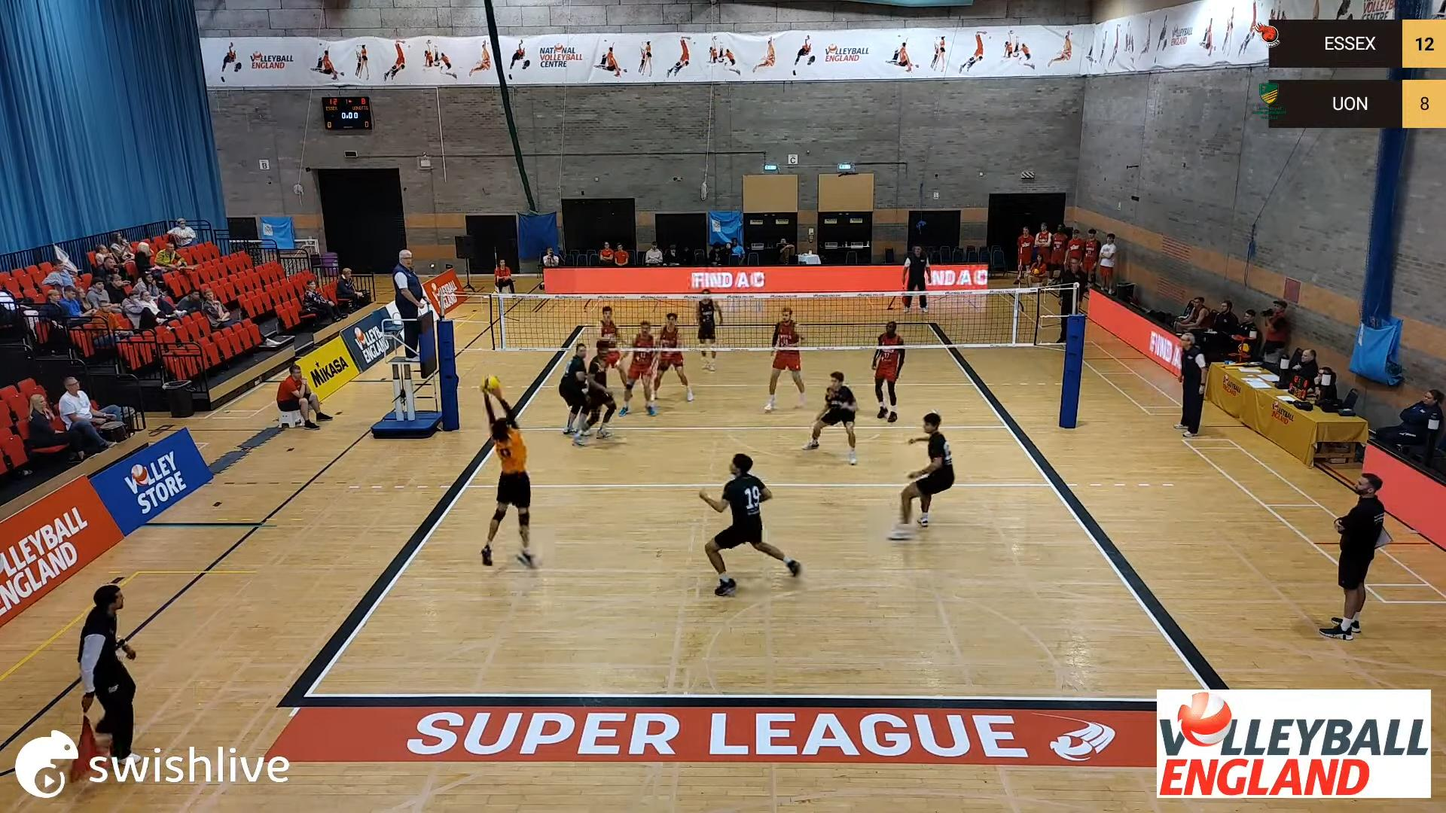Dig: (474, 385, 542, 567)
Player: (699, 454, 801, 595), (889, 413, 953, 540), (803, 371, 856, 464), (573, 340, 616, 446), (764, 309, 805, 411), (653, 312, 694, 401), (619, 320, 656, 416), (872, 322, 905, 422), (558, 342, 588, 434), (697, 288, 720, 370), (599, 306, 620, 367)
ball: (481, 375, 503, 389)
